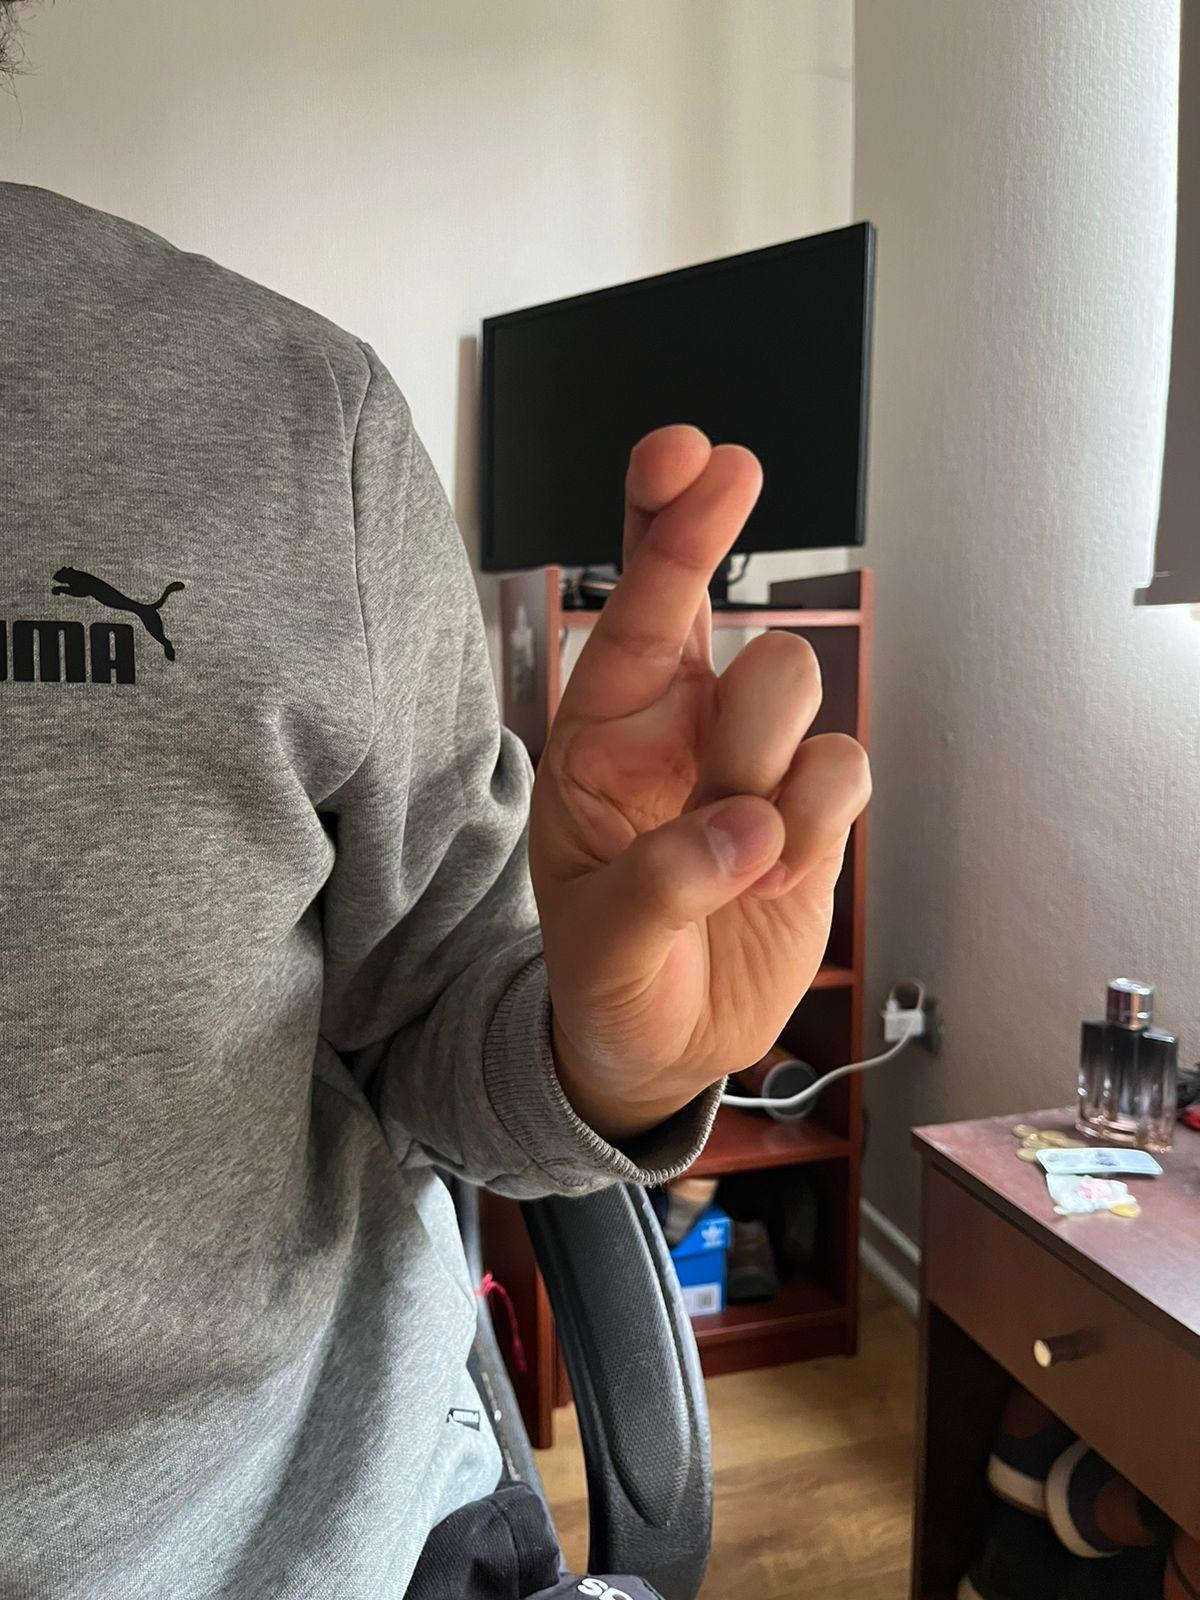R: (534, 404, 875, 1092)
